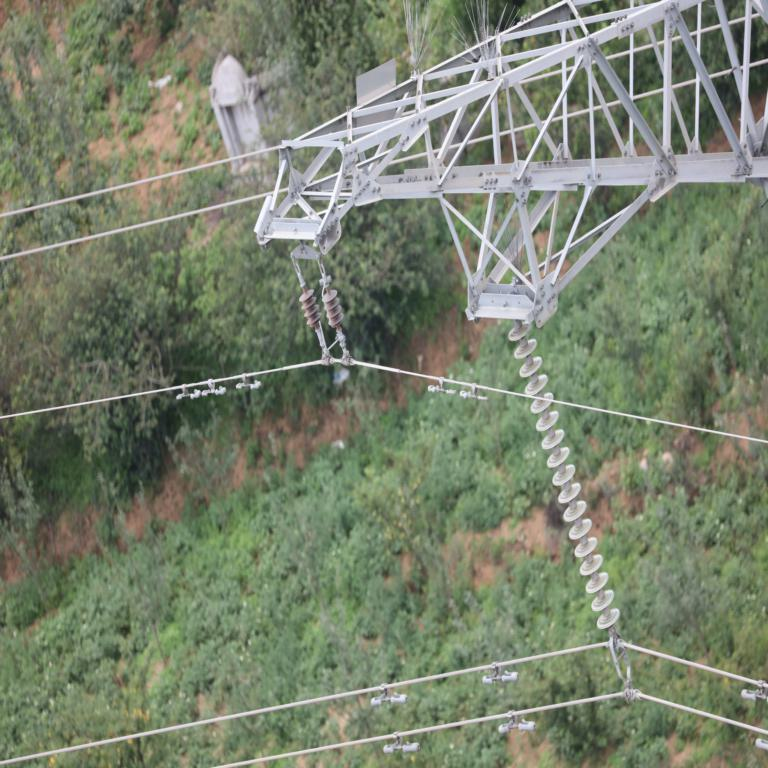nest: (510, 236, 526, 285)
